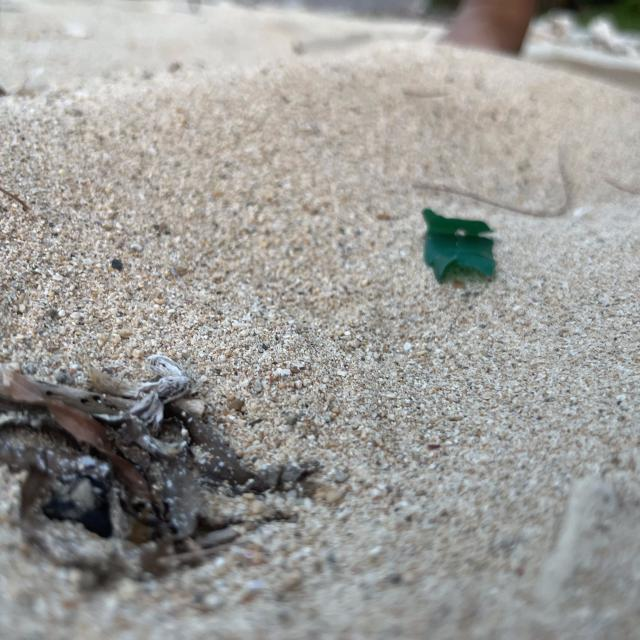seaweed: (0, 347, 326, 572)
trash: (415, 201, 508, 290)
